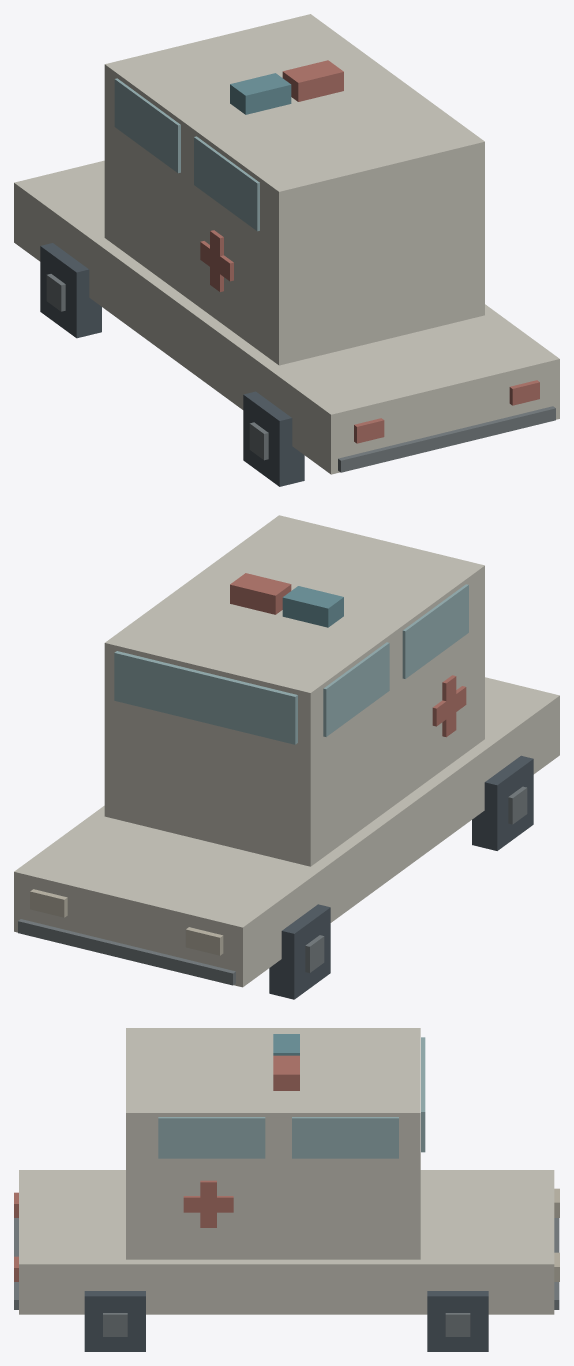
Rendered from ambulance.glb.
The picture shows the model from 3 angles, top to bottom: view 1: azimuth 30°, elevation 25°; view 2: azimuth 150°, elevation 25°; view 3: azimuth 270°, elevation 25°; orthographic projection. The views are drawn at different scales.
Visible parts, largest first — view 1: body, wheel_-1.0_1.536, wheel_-1.0_-1.536; view 2: body, wheel_-1.0_1.536, wheel_-1.0_-1.536; view 3: body, wheel_1.0_-1.536, wheel_1.0_1.536.
Boxes of the visible parts, left/top/right/bottom form: body: left=14, top=14, right=559, bottom=474; wheel_-1.0_1.536: left=243, top=391, right=304, bottom=486; wheel_-1.0_-1.536: left=40, top=243, right=101, bottom=338; body: left=14, top=515, right=559, bottom=987; wheel_-1.0_1.536: left=472, top=755, right=533, bottom=850; wheel_-1.0_-1.536: left=269, top=904, right=330, bottom=999; body: left=14, top=1028, right=559, bottom=1314; wheel_1.0_-1.536: left=427, top=1291, right=488, bottom=1351; wheel_1.0_1.536: left=84, top=1291, right=145, bottom=1351.
Bounding box in the file's own units: 2.3 × 2.42 × 4.89.
